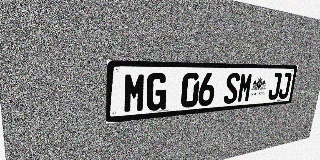0: (180, 73, 200, 108)
6: (197, 73, 216, 107)
G: (146, 73, 168, 111)
J: (267, 73, 282, 100), (278, 73, 292, 99)
M: (123, 73, 147, 114), (237, 73, 253, 103)
S: (223, 73, 241, 104)
